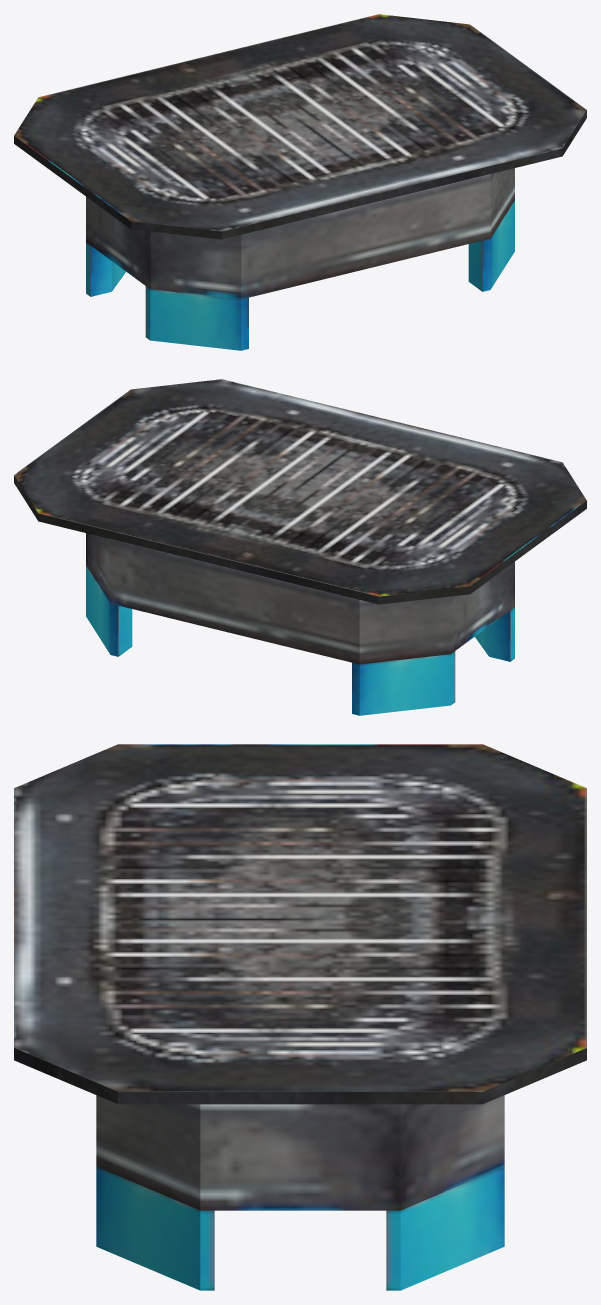
The model's file is Grill01.obj.
The picture shows the model from 3 angles, top to bottom: view 1: azimuth 30°, elevation 25°; view 2: azimuth 150°, elevation 25°; view 3: azimuth 270°, elevation 25°; orthographic projection. The views are drawn at different scales.
Visible parts, largest first — view 1: Grill01; view 2: Grill01; view 3: Grill01.
Boxes of the visible parts, x1,y1,x2,y2 form: Grill01: (14, 14, 586, 350); Grill01: (14, 379, 586, 715); Grill01: (14, 744, 586, 1290).
Size of the model in its own units: 1.43 by 0.45 by 1.
